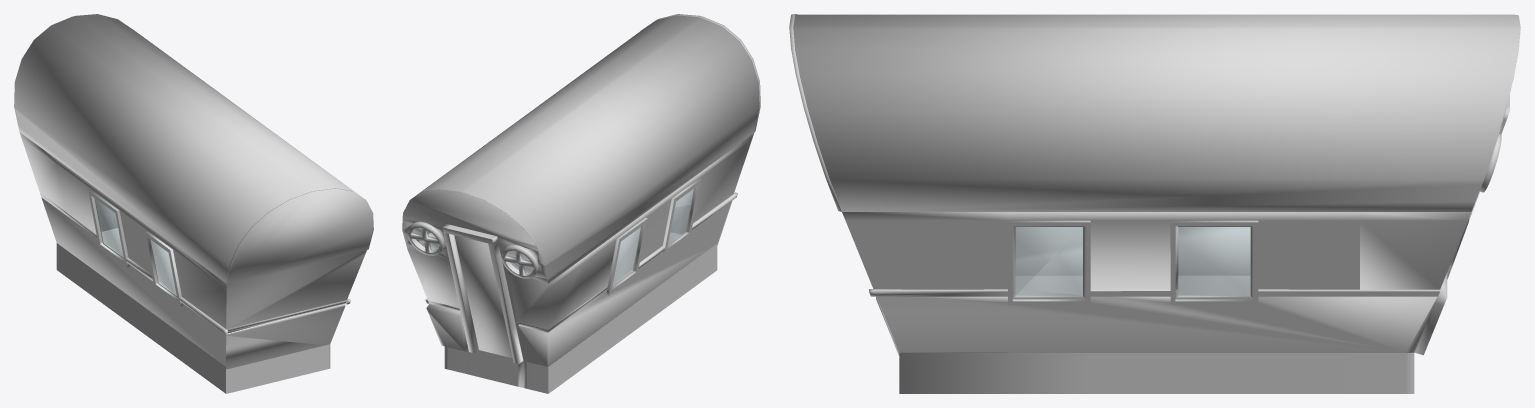
The model's file is Player_Trailer_Insides(v2.0).fbx.
The picture shows the model from 3 angles, left to right: view 1: azimuth 30°, elevation 25°; view 2: azimuth 150°, elevation 25°; view 3: azimuth 270°, elevation 25°; orthographic projection. The views are drawn at different scales.
Parts seen in each view (by area): view 1: Trailer; view 2: Trailer; view 3: Trailer.
Boxes of the visible parts, box(x1,y1,x2,y2) form: Trailer: box(14, 14, 373, 393); Trailer: box(402, 14, 760, 393); Trailer: box(789, 14, 1520, 393).
Size of the model in its own units: 9521 by 13649 by 27564.
